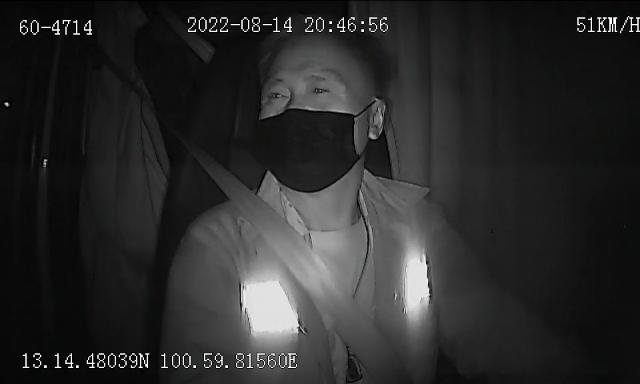SafeDriving: (262, 80, 292, 104), (305, 78, 338, 98)
Seatbelt: (201, 158, 375, 382)
